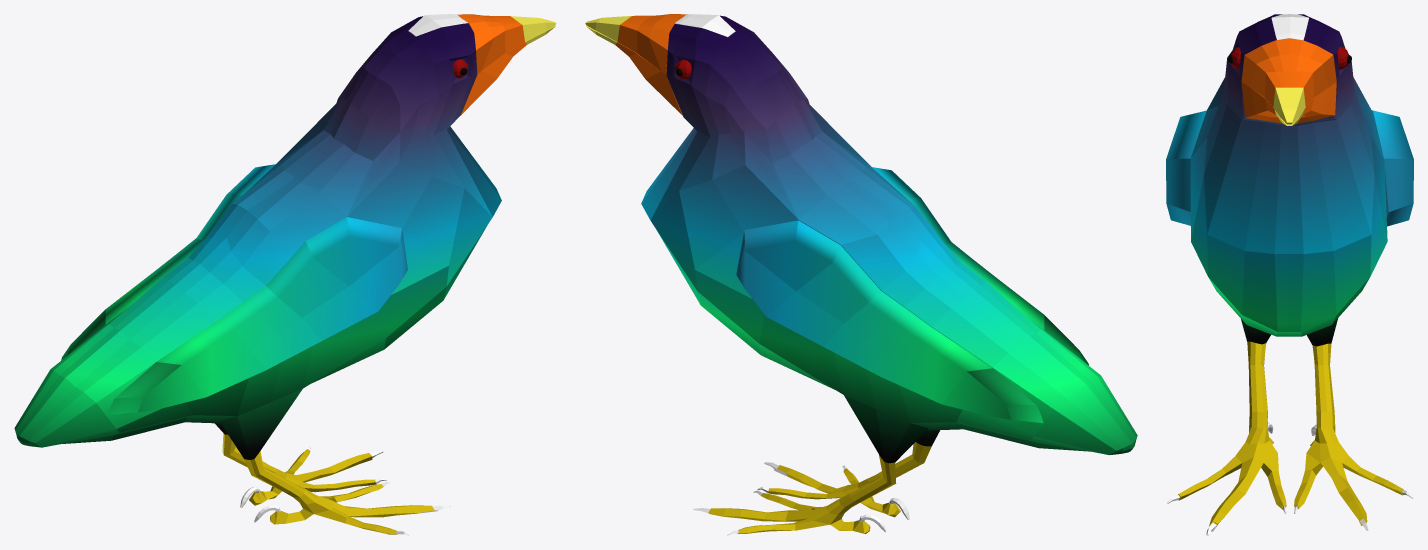
File: pajaro.glb
3 renders of one model, left to right at view 1: azimuth 30°, elevation 25°; view 2: azimuth 150°, elevation 25°; view 3: azimuth 270°, elevation 25°, orthographic. The views are drawn at different scales.
Visible parts, largest first — view 1: polySurface2; view 2: polySurface2; view 3: polySurface2.
Boxes of the visible parts, box(x1,y1,x2,y2) form: polySurface2: box(14, 14, 556, 535); polySurface2: box(585, 14, 1137, 535); polySurface2: box(1166, 14, 1413, 535).
Size of the model in its own units: 0.3513 by 0.2876 by 0.1216.
Materials: 8 (1 with a texture image).
